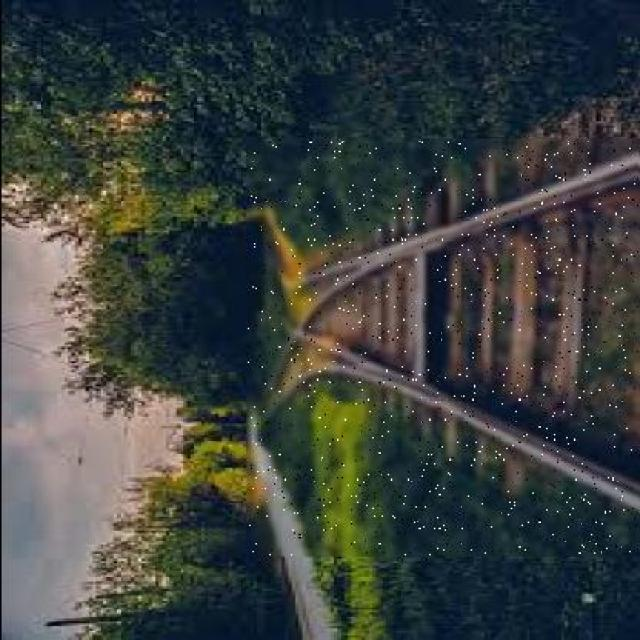rail: (246, 140, 638, 556)
